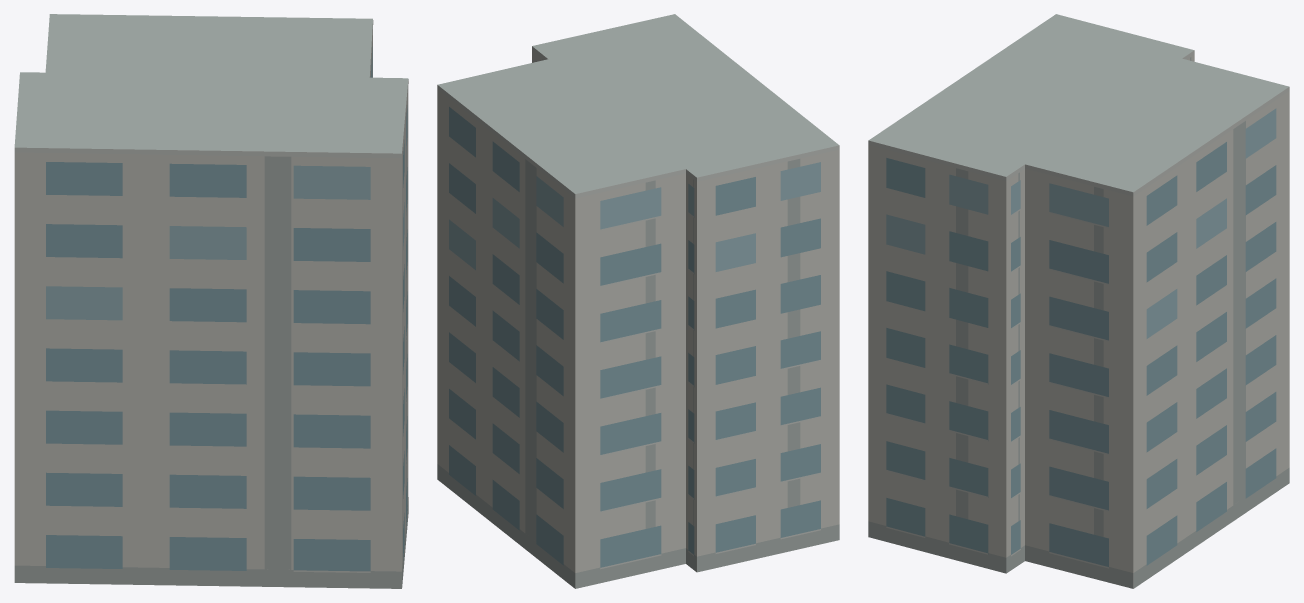
The model's file is survey-upis-32912269.glb.
The picture shows the model from 3 angles, left to right: view 1: azimuth 30°, elevation 25°; view 2: azimuth 150°, elevation 25°; view 3: azimuth 270°, elevation 25°; orthographic projection. The views are drawn at different scales.
Parts seen in each view (by area): view 1: survey-upis-32912269.tmp; view 2: survey-upis-32912269.tmp; view 3: survey-upis-32912269.tmp.
Part boxes in pixels (<box>): survey-upis-32912269.tmp: <box>14,14,408,588</box>; survey-upis-32912269.tmp: <box>437,14,839,588</box>; survey-upis-32912269.tmp: <box>868,14,1289,588</box>.
Size of the model in its own units: 20.83 by 21.6 by 20.79.
